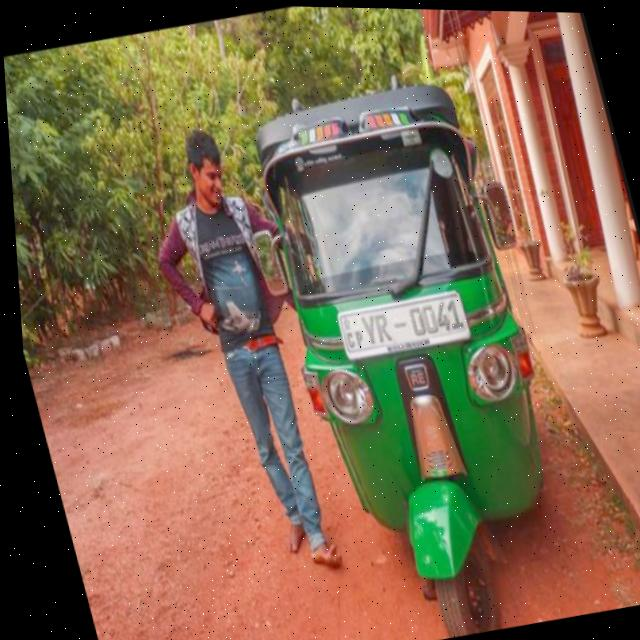cng: (215, 39, 593, 640)
